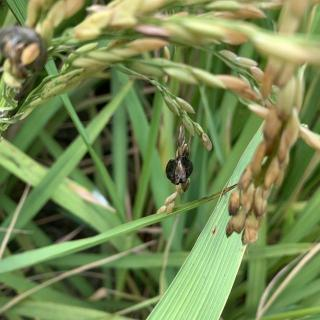Gosong-Palsu: (1, 25, 47, 71), (165, 156, 194, 185)
